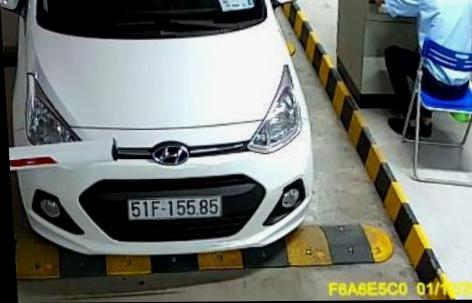License_Plate: (124, 192, 224, 221)
